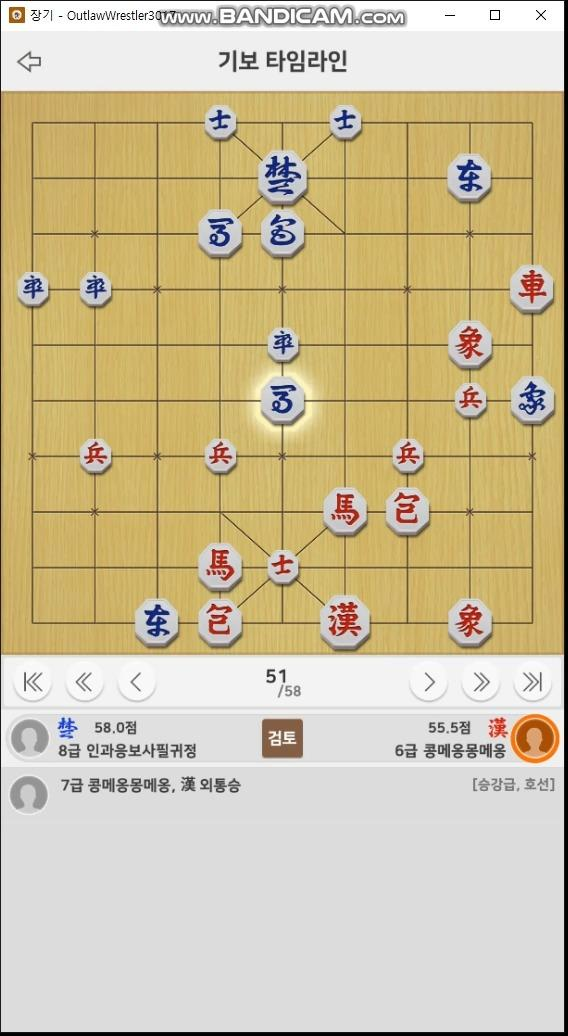cha_green: (136, 598, 181, 643), (448, 156, 492, 202)
cha_red: (510, 267, 553, 311)
jol_green: (78, 271, 115, 306), (18, 270, 51, 308), (267, 327, 300, 361)
jol_red: (393, 440, 424, 476), (81, 440, 112, 475), (456, 384, 486, 419), (207, 439, 237, 474)
ma_green: (260, 375, 306, 425), (199, 211, 243, 254)
ma_red: (198, 545, 240, 591), (326, 487, 366, 535)
po_green: (262, 211, 306, 254)
po_red: (387, 489, 427, 537), (199, 600, 240, 644)
sa_green: (327, 105, 363, 140), (205, 105, 237, 140)
sa_red: (265, 549, 300, 585)
sang_green: (508, 375, 555, 424)
sang_red: (449, 599, 491, 646), (450, 322, 492, 367)
wang_green: (258, 149, 308, 202)
wang_red: (322, 597, 369, 647)
